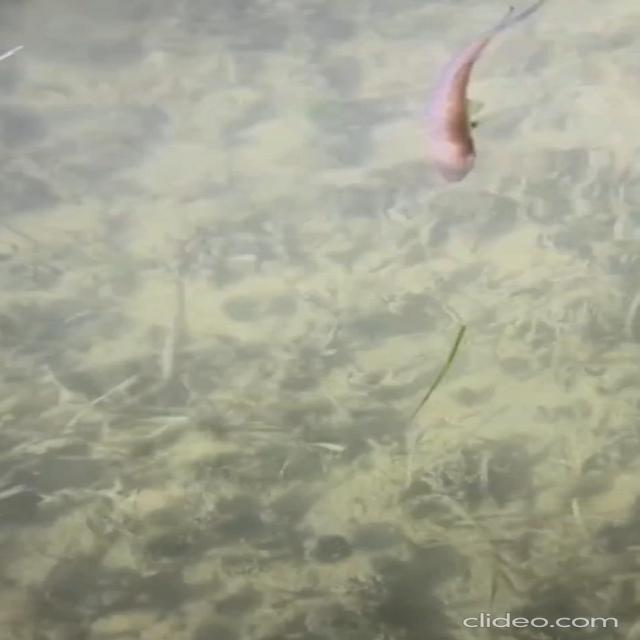fish: (411, 0, 526, 184)
